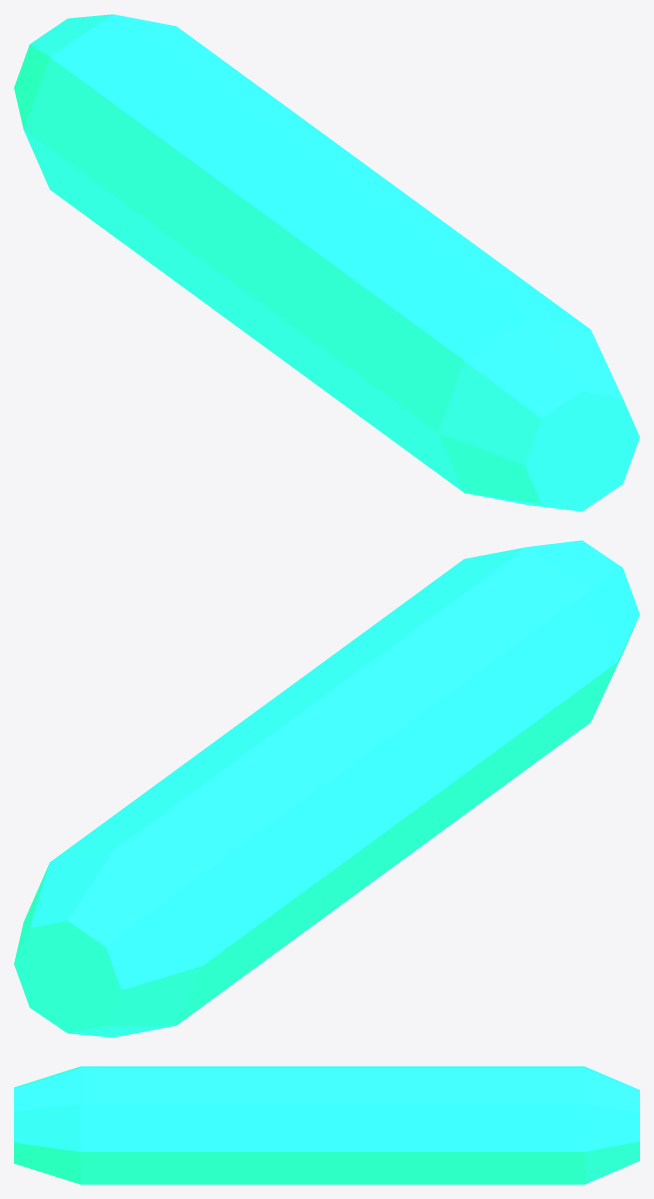
Rendered from playerBullet.glb.
3 views of the same model, one above another, from view 1: azimuth 30°, elevation 25°; view 2: azimuth 150°, elevation 25°; view 3: azimuth 270°, elevation 25° (orthographic). The views are drawn at different scales.
Visible parts, largest first — view 1: Bullet; view 2: Bullet; view 3: Bullet.
Part boxes in pixels (x1,y1,x2,y2): Bullet: [14, 14, 639, 511]; Bullet: [14, 540, 639, 1037]; Bullet: [14, 1066, 639, 1184].
Size of the model in its own units: 0.4991 by 0.4991 by 2.48.
